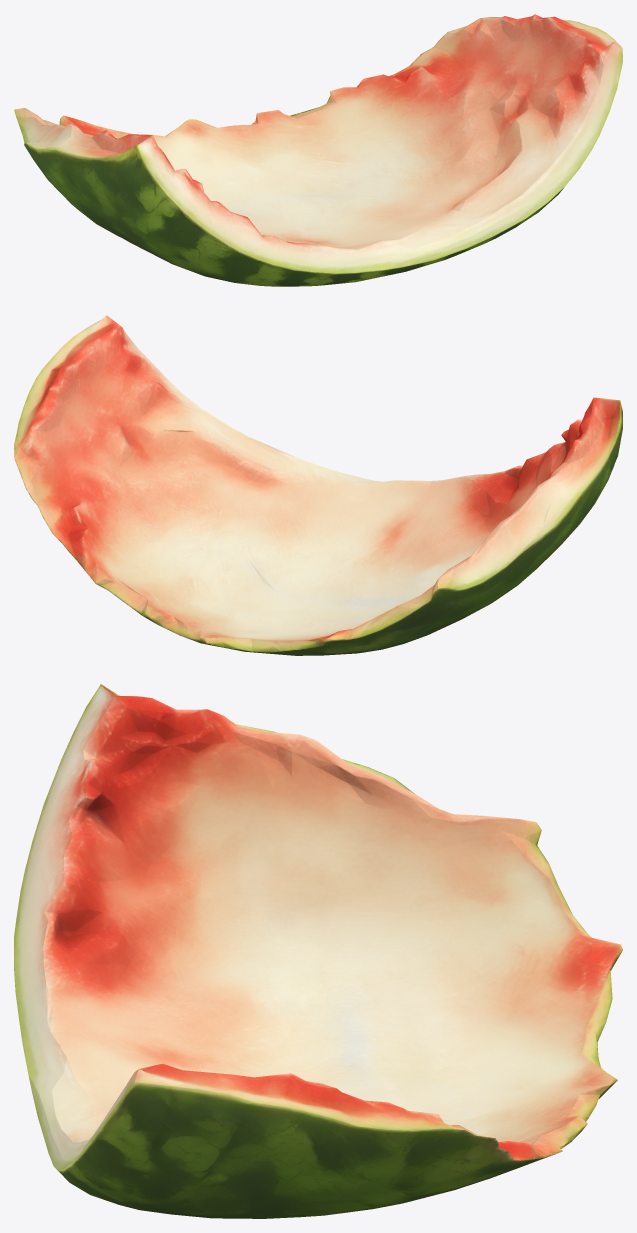
3 renders of one model, top to bottom at view 1: azimuth 30°, elevation 25°; view 2: azimuth 150°, elevation 25°; view 3: azimuth 270°, elevation 25°, orthographic. The views are drawn at different scales.
Parts seen in each view (by area): view 1: model; view 2: model; view 3: model.
Boxes of the visible parts, x1,y1,x2,y2 form: model: [14, 14, 622, 286]; model: [14, 315, 622, 655]; model: [14, 684, 622, 1218].
Bounding box in the file's own units: 1.9 × 0.7227 × 1.32.
1 material, 1 textured.
